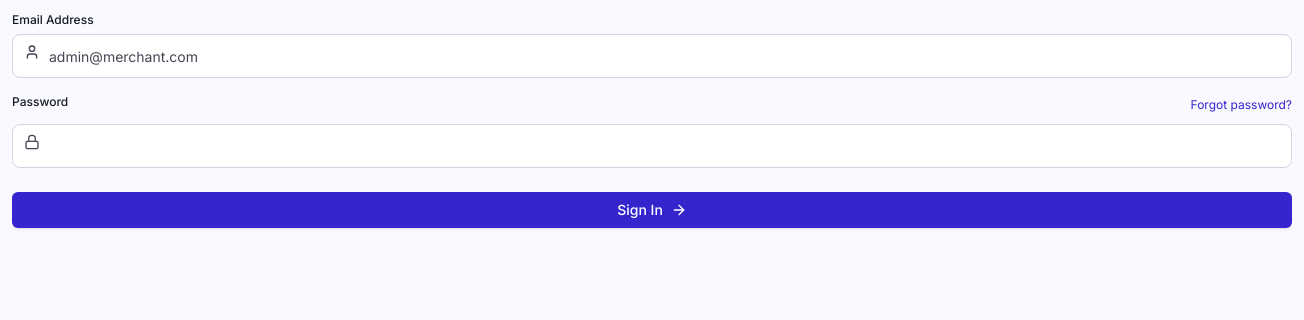
it: LoginForm › displays error message when login API fails
Step 1. Type "admin@test.com" into the field with placeholder "admin@merchant.com" → (652, 56), box 12,34 -> 1292,78
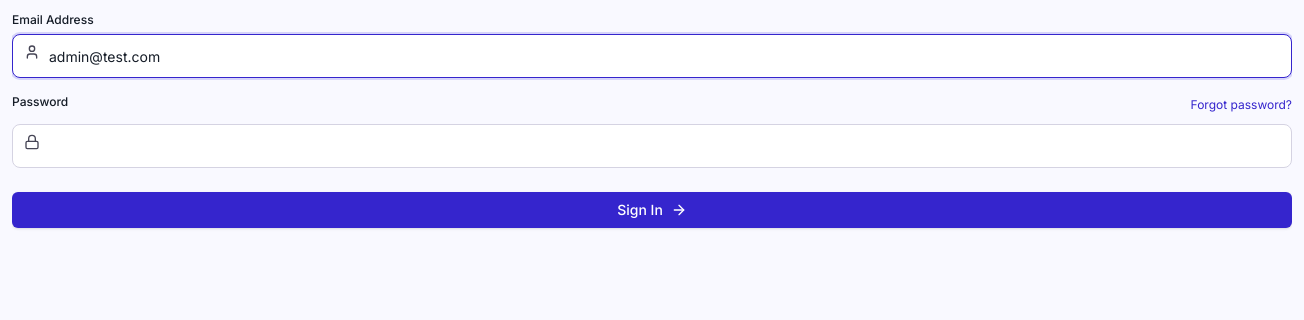
Step 2. Type "wrongpassword" into the password field labelled "Password" → (652, 146), box 12,124 -> 1292,168
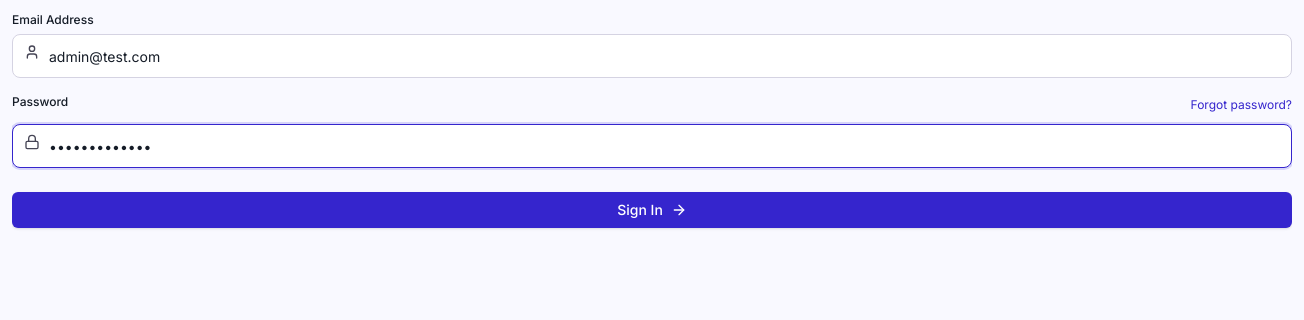
Step 3. Click the button "Sign In" → (652, 210), box 12,192 -> 1292,228
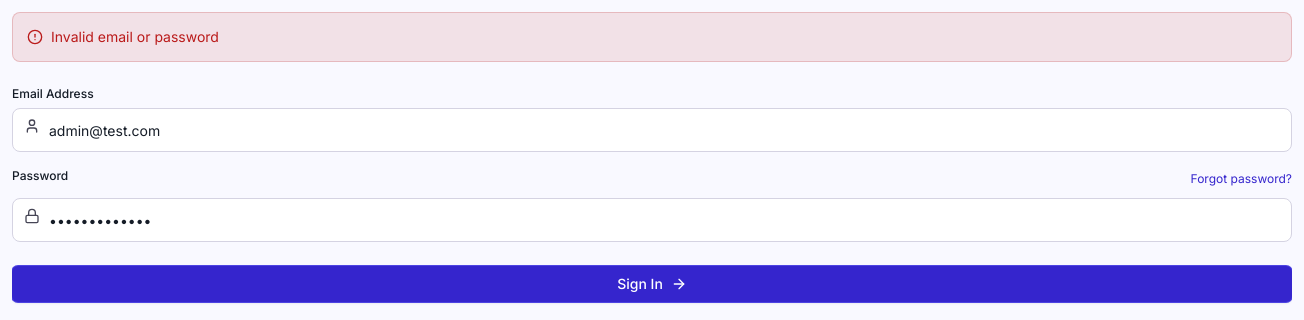
Expected: the text "Invalid email or password" is shown, 51,27 -> 219,47
